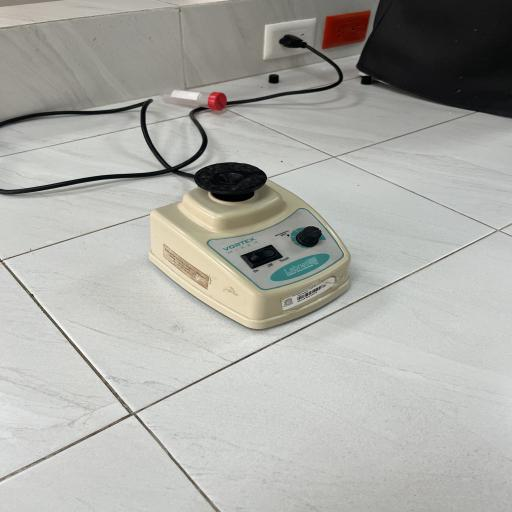Vortex_Mixer_LabNet: (129, 144, 365, 334)
